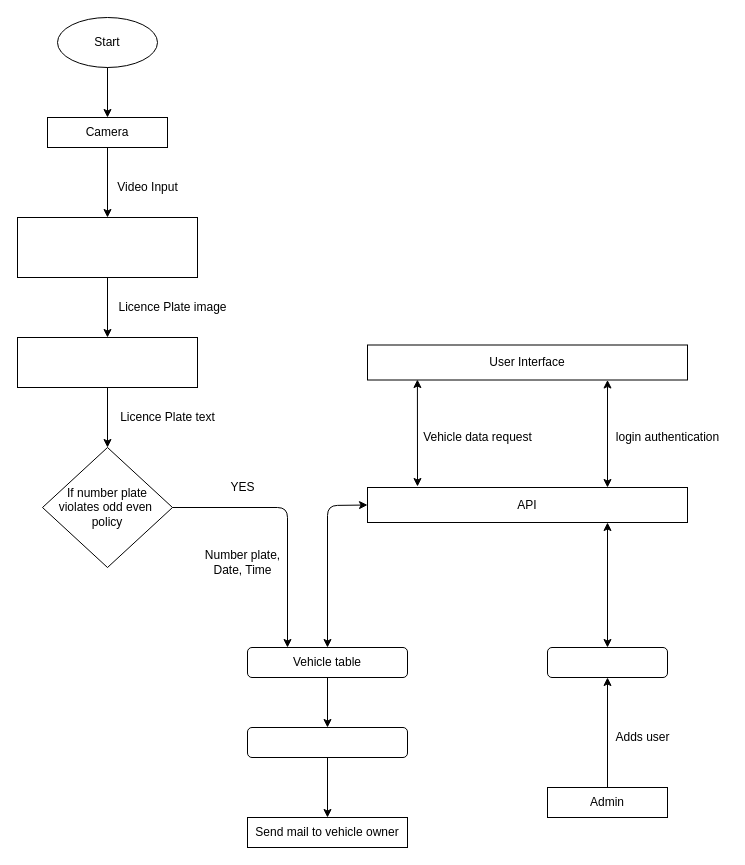
Image size: 745x865. Some labels were removed from this diagram. The centre of each missing label's shape, as x and y in pixels:
Pytesseract OCR: pixel 107 362
User table: pixel 607 662
Vehicle owner table: pixel 327 742
YOLOV4 licence plate detecting model: pixel 107 247
